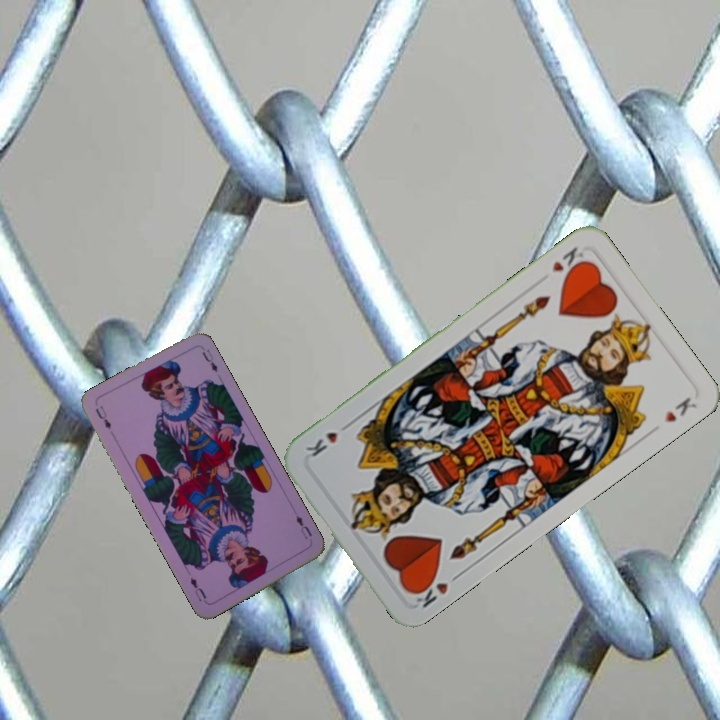EU: (292, 511, 315, 542), (91, 401, 114, 432)
HK: (407, 569, 464, 611), (547, 242, 589, 280)
